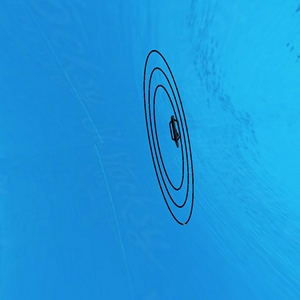submarine: (166, 115, 182, 145)
